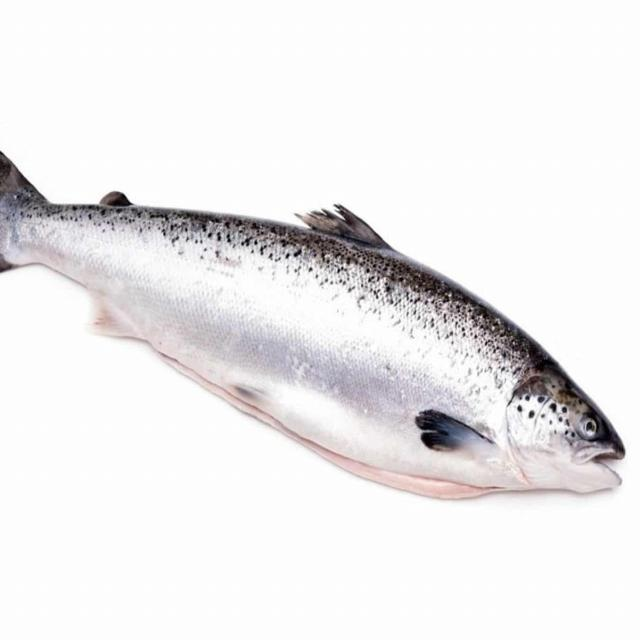salmon: (0, 152, 632, 514)
